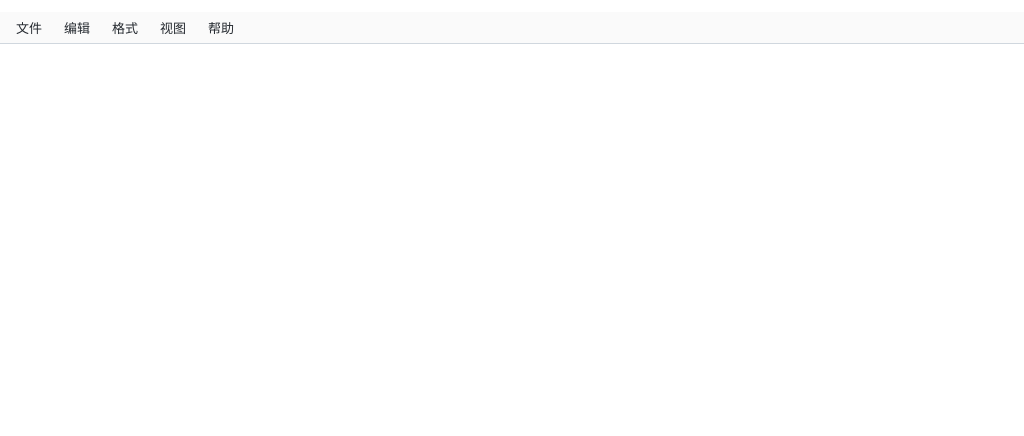
Scenario: MenuBar labels (regression: renames must land in BOTH languages) › Chinese: File menu shows 导出, never 另存为 / 导出
Click the button "文件": (29, 28) [6,14,52,41]
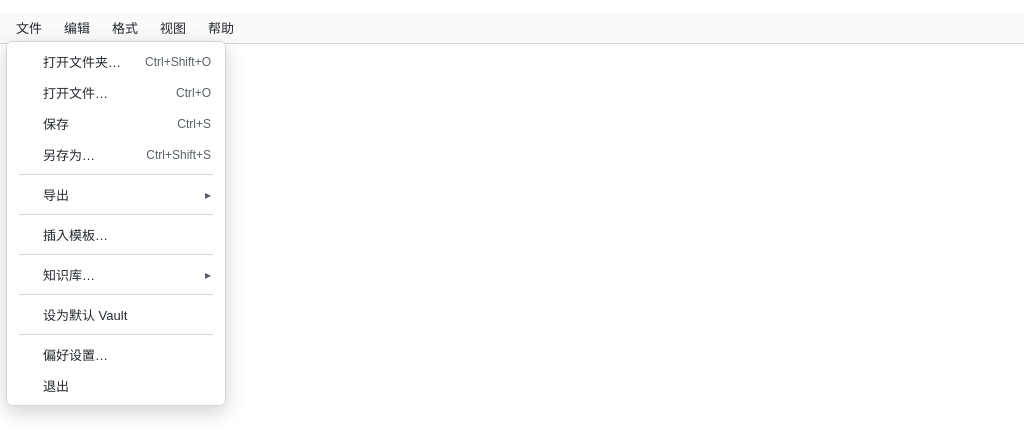
expect the text "导出" is shown: met, box [43,188,69,203]
